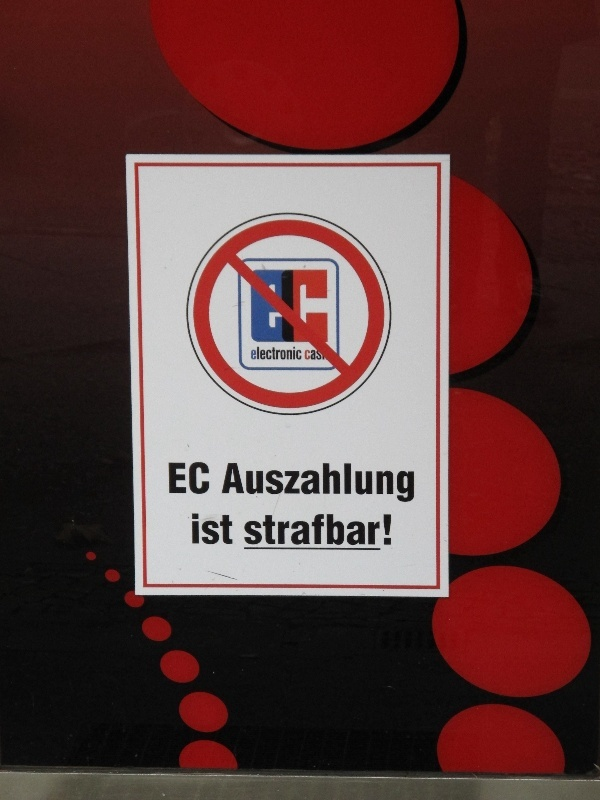text: (257, 269, 272, 343), (273, 269, 288, 343), (289, 269, 304, 343), (305, 269, 320, 343), (241, 464, 256, 503), (257, 464, 272, 503), (273, 464, 288, 503), (289, 464, 304, 503), (305, 464, 320, 503), (321, 464, 336, 503), (337, 464, 352, 503), (353, 464, 368, 503), (369, 464, 384, 503), (385, 464, 400, 503), (401, 464, 415, 503), (321, 269, 328, 343), (193, 462, 209, 494), (177, 462, 192, 494), (193, 514, 208, 546), (209, 514, 224, 546), (257, 515, 272, 547), (273, 515, 288, 547), (289, 515, 304, 547), (305, 515, 320, 547), (321, 515, 336, 547), (337, 515, 352, 547), (353, 515, 368, 547), (369, 515, 384, 547), (228, 464, 240, 503), (244, 515, 256, 547), (251, 269, 256, 343), (225, 514, 233, 546), (169, 462, 176, 494), (385, 515, 392, 547), (257, 347, 272, 360), (273, 347, 288, 360), (289, 347, 302, 360), (305, 351, 320, 361), (321, 351, 328, 361), (251, 347, 256, 360)
